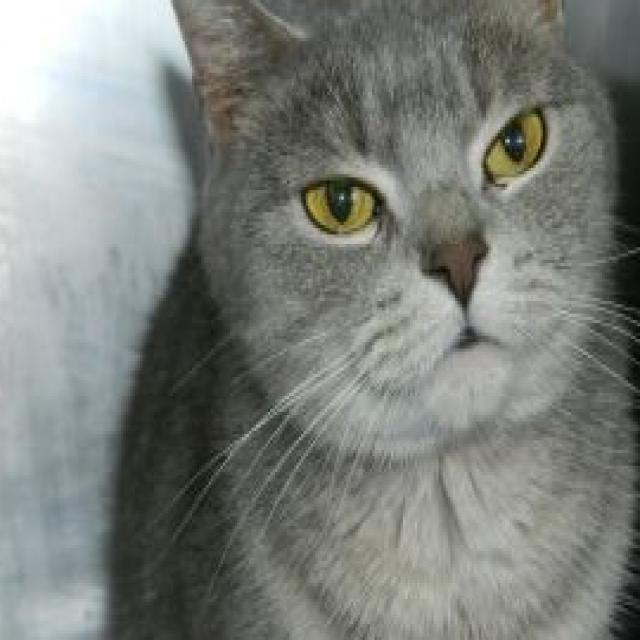British Shorthair: (97, 0, 640, 640)
